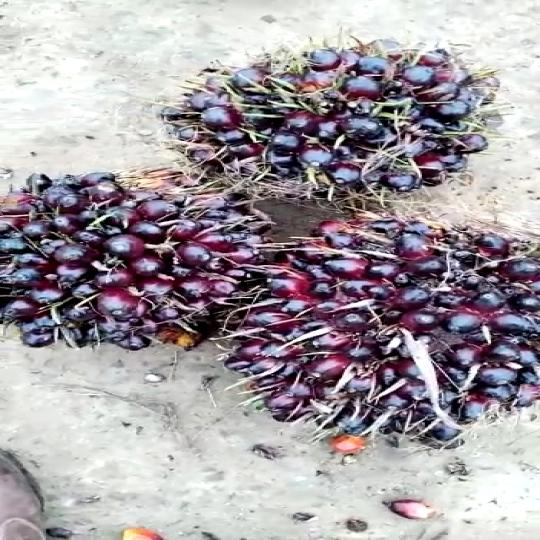mentah: (241, 217, 540, 440), (148, 32, 508, 200), (1, 158, 268, 362)
